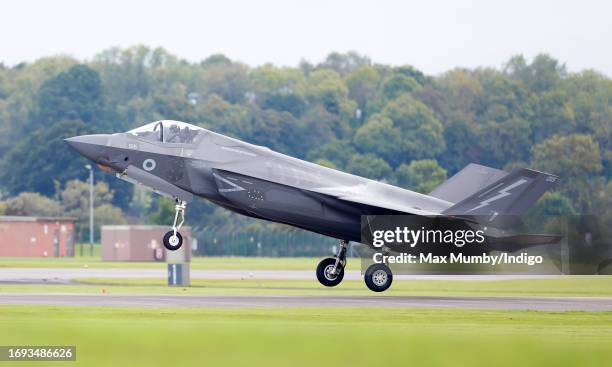F35: (63, 117, 565, 294)
